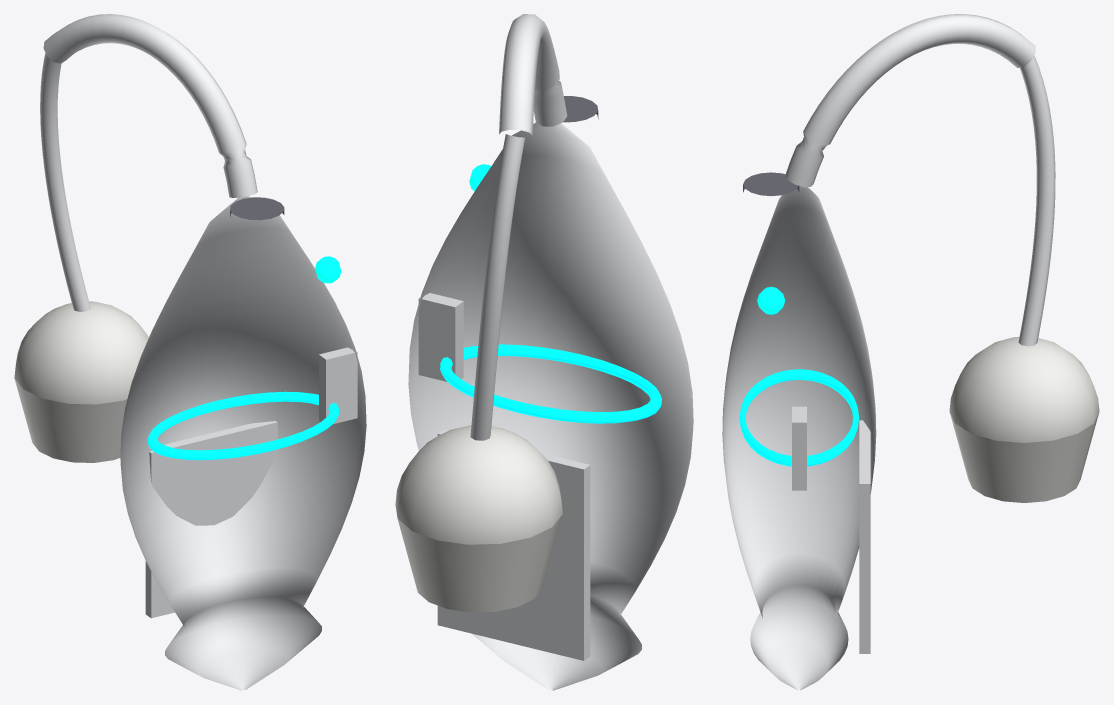
The model's file is hearing-aid.glb.
3 views of the same model, side by side, from view 1: azimuth 30°, elevation 25°; view 2: azimuth 150°, elevation 25°; view 3: azimuth 270°, elevation 25° (orthographic). The views are drawn at different scales.
Visible parts, largest first — view 1: body, ear_tip, battery_door, ear_hook, sound_tube, brand_ring, button_volume, mic_grille, led_indicator; view 2: body, ear_tip, battery_door, sound_tube, ear_hook, brand_ring, button_volume, mic_grille; view 3: body, ear_tip, ear_hook, sound_tube, brand_ring, battery_door, button_volume, mic_grille, led_indicator.
Boxes of the visible parts, bbox=[...] form: body: bbox=[120, 196, 366, 690]; ear_tip: bbox=[14, 301, 148, 462]; battery_door: bbox=[145, 421, 277, 618]; ear_hook: bbox=[43, 14, 257, 197]; sound_tube: bbox=[40, 53, 90, 311]; brand_ring: bbox=[147, 391, 339, 460]; button_volume: bbox=[319, 347, 357, 423]; mic_grille: bbox=[230, 197, 284, 220]; led_indicator: bbox=[315, 256, 341, 283]; body: bbox=[408, 122, 693, 690]; ear_tip: bbox=[395, 425, 562, 612]; battery_door: bbox=[437, 429, 590, 660]; sound_tube: bbox=[470, 134, 525, 440]; ear_hook: bbox=[499, 14, 567, 135]; brand_ring: bbox=[440, 344, 661, 423]; button_volume: bbox=[418, 293, 463, 381]; mic_grille: bbox=[563, 96, 598, 122]; body: bbox=[722, 186, 876, 690]; ear_tip: bbox=[949, 336, 1099, 502]; ear_hook: bbox=[785, 14, 1035, 186]; sound_tube: bbox=[1018, 55, 1055, 346]; brand_ring: bbox=[739, 369, 859, 466]; battery_door: bbox=[859, 420, 870, 653]; button_volume: bbox=[792, 406, 806, 490]; mic_grille: bbox=[743, 172, 799, 196]; led_indicator: bbox=[757, 286, 785, 314].
Bounding box in the file's own units: 1.49 × 3.82 × 2.01.
